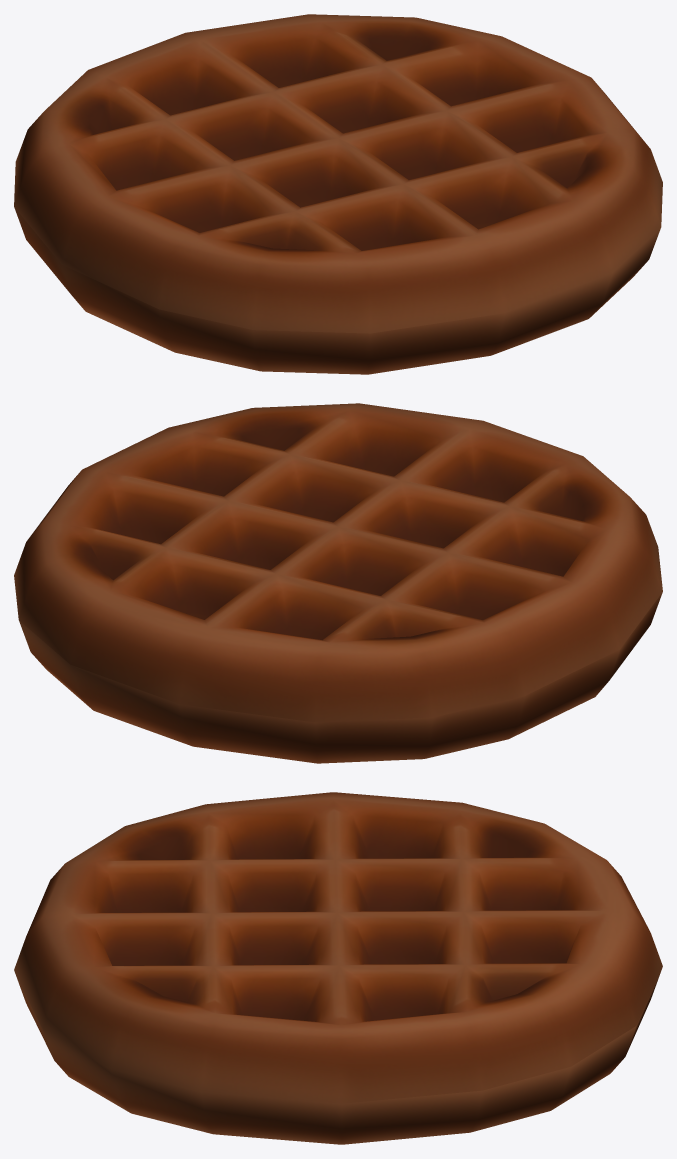
The model's file is 009-Waffles03.FBX.
3 views of the same model, one above another, from view 1: azimuth 30°, elevation 25°; view 2: azimuth 150°, elevation 25°; view 3: azimuth 270°, elevation 25° (orthographic).
Visible parts, largest first — view 1: 009-Waffles03; view 2: 009-Waffles03; view 3: 009-Waffles03.
Part boxes in pixels (x1=…): 009-Waffles03: x1=14, y1=14, x2=662, y2=374; 009-Waffles03: x1=14, y1=403, x2=662, y2=763; 009-Waffles03: x1=14, y1=792, x2=662, y2=1144.
Size of the model in its own units: 18.5 by 3.56 by 18.75.
